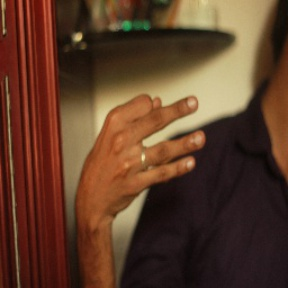K: (72, 93, 203, 202)
